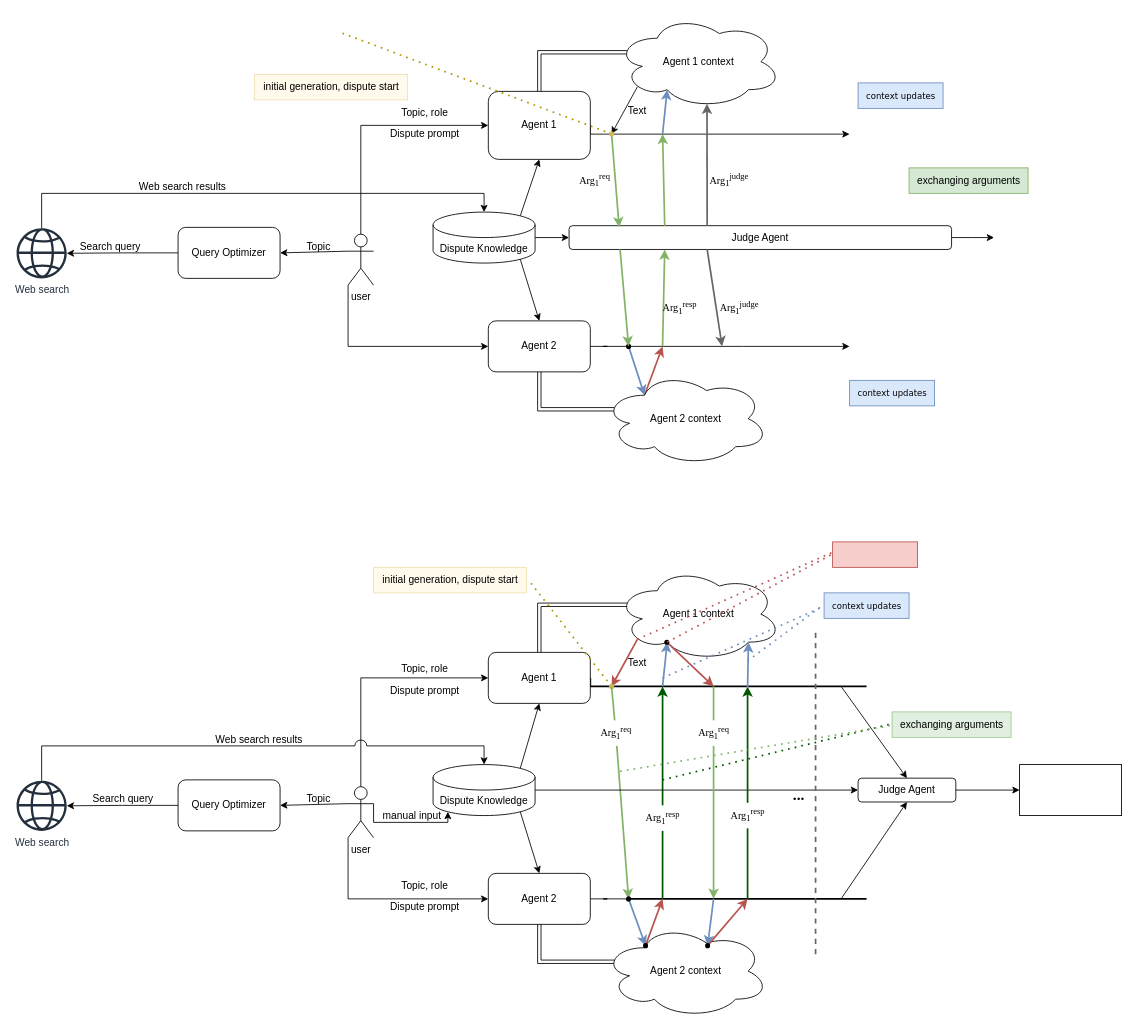
This 1136x1033 diagram has some shape labels left out. The shapes that lost their labels are listed below. From the top down, each one's box as (x1, y1, x2, y2) in pixels, then its label:
(832, 541, 918, 567): generated text
(1019, 764, 1122, 816): Judge's verdict
